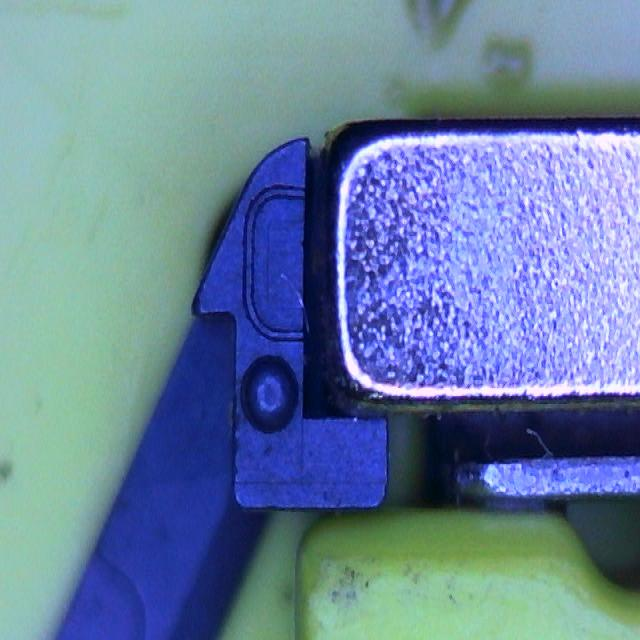noResin: (242, 182, 310, 342)
